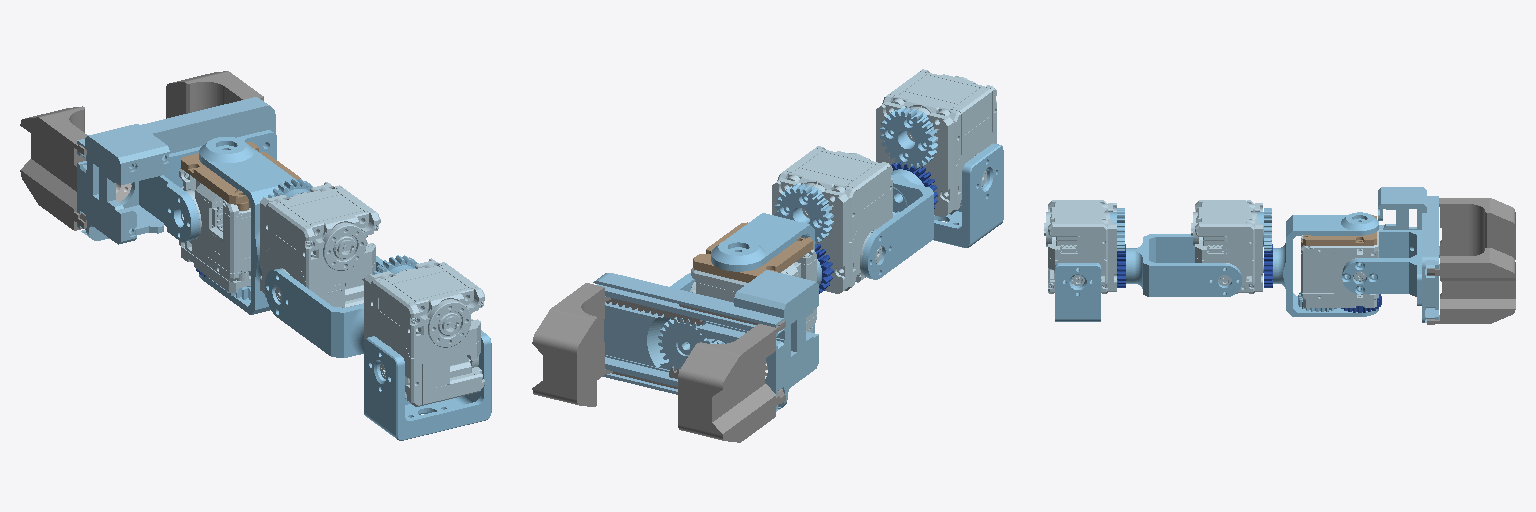
--- Render facts (derived) ---
Views: 3 orthographic renders of the robot side by side, from view 1: azimuth 30°, elevation 25°; view 2: azimuth 150°, elevation 25°; view 3: azimuth 270°, elevation 25°.
Robot: left_arm_gripper — 19 links, 18 joints (10 revolute, 2 prismatic, 6 fixed); root link sho_pitch_link; default pose: all joints at 0.
Visible links, largest first — view 1: 2xl430_gears, left_rail_guide, 2xl430_gears_2, sho_pitch_link, rail, 2xl430_gears_3, elb_yaw_link, sho_yaw_link, left_gripper_connector, rail_2, wrist_bearing_plate; view 2: left_rail_guide, rail, 2xl430_gears_2, 2xl430_gears, rail_2, sho_yaw_link, sho_pitch_link, elb_yaw_link, spur_1m_24t_drive, spur_1m_24t_drive_2, 2xl430_gears_3, wrist_bearing_plate; view 3: rail_2, sho_yaw_link, 2xl430_gears, 2xl430_gears_2, rail, left_gripper_connector, 2xl430_gears_3, left_rail_guide, elb_yaw_link, sho_pitch_link, wrist_bearing_plate.
Link boxes in pixels (x1,y1,x2,y2): 2xl430_gears: (364,258,484,406); left_rail_guide: (77,97,275,244); 2xl430_gears_2: (260,182,380,307); sho_pitch_link: (364,330,491,440); rail: (20,106,87,230); 2xl430_gears_3: (179,168,250,293); elb_yaw_link: (199,137,294,314); sho_yaw_link: (265,256,383,357); left_gripper_connector: (139,130,276,241); rail_2: (166,71,263,118); wrist_bearing_plate: (181,142,300,210); left_rail_guide: (593,270,818,411); rail: (669,304,785,442); 2xl430_gears_2: (772,146,892,293); 2xl430_gears: (876,69,996,217); rail_2: (532,283,704,406); sho_yaw_link: (862,169,933,279); sho_pitch_link: (933,143,1003,247); elb_yaw_link: (711,213,821,332); spur_1m_24t_drive: (880,107,937,168); spur_1m_24t_drive_2: (775,184,833,242); 2xl430_gears_3: (690,249,816,332); wrist_bearing_plate: (693,222,812,282); rail_2: (1427,248,1515,324); sho_yaw_link: (1126,234,1241,296); 2xl430_gears: (1044,200,1116,293); 2xl430_gears_2: (1191,200,1263,293); rail: (1439,198,1515,259); left_gripper_connector: (1342,230,1421,305); 2xl430_gears_3: (1301,230,1378,307); left_rail_guide: (1378,187,1438,322); elb_yaw_link: (1273,212,1378,316); sho_pitch_link: (1055,263,1100,321); wrist_bearing_plate: (1301,215,1376,246).
Size in the robot's own frame: 0.0917 by 0.2811 by 0.0652 metres.
18 mesh visuals loaded from 19 distinct referenced files (18 binary STL); not drawn: 1 (reference not matched to a file when rendering).

The robot description file, URDF, robot "left_arm_gripper":
<?xml version="1.0" ?><robot name="left_arm_gripper">  
  <link name="sho_pitch_link">    
    <visual>      
      <origin xyz="0 0 0" rpy="0 -0 0"/>      
      <geometry>        
        <mesh filename="package:///meshes/left_sho_pitch_link_visual.stl"/>        
      </geometry>      
      <material name="sho_pitch_link_material">        
        <color rgba="0.61568627450980395466 0.81176470588235294379 0.92941176470588227065 1.0"/>        
      </material>      
    </visual>    
    <collision>      
      <origin xyz="0 0 0" rpy="0 -0 0"/>      
      <geometry>        
        <mesh filename="package:///meshes/left_sho_pitch_link_collision.stl"/>        
      </geometry>      
    </collision>    
    <inertial>      
      <origin xyz="-1.0259034381598989264e-18 -2.1966078074444170109e-18 0.012913250798677557499" rpy="0 0 0"/>      
      <mass value="0.0085999999999999982708"/>      
      <inertia ixx="1.8365636406635683089e-06" ixy="1.0387514045979628457e-20" ixz="-1.6193093852519860617e-61" iyy="4.0110869076838864174e-06" iyz="-1.0800914119377960692e-46" izz="3.516051645049224817e-06"/>      
    </inertial>    
  </link>  

  <link name="2xl430_gears">    
    <visual>      
      <origin xyz="0 0 0" rpy="0 -0 0"/>      
      <geometry>        
        <mesh filename="package:///meshes/left_2xl430_gears_visual.stl"/>        
      </geometry>      
      <material name="2xl430_gears_material">        
        <color rgba="0.75914767920569214965 0.85560384745670925444 0.90519468321360607721 1.0"/>        
      </material>      
    </visual>    
    <collision>      
      <origin xyz="0 0 0" rpy="0 -0 0"/>      
      <geometry>        
        <mesh filename="package:///meshes/left_2xl430_gears_collision.stl"/>        
      </geometry>      
    </collision>    
    <inertial>      
      <origin xyz="-0.011592905737984531694 -0.0024238553642513625125 -0.018551095523807990123" rpy="0 0 0"/>      
      <mass value="0.11800003674524911501"/>      
      <inertia ixx="2.751102105042718034e-05" ixy="9.0043904315212092764e-07" ixz="-2.3349710123078761822e-08" iyy="3.2796197843348192627e-05" iyz="-6.57151196549046044e-07" izz="3.5775739835743546827e-05"/>      
    </inertial>    
  </link>  

  <link name="spur_1m_24t_drive">    
    <visual>      
      <origin xyz="0 0 0" rpy="0 -0 0"/>      
      <geometry>        
        <mesh filename="package:///meshes/left_spur_1m_24t_drive_visual.stl"/>        
      </geometry>      
      <material name="spur_1m_24t_drive_material">        
        <color rgba="0.61568627450980395466 0.81176470588235294379 0.92941176470588238168 1.0"/>        
      </material>      
    </visual>    
    <collision>      
      <origin xyz="0 0 0" rpy="0 -0 0"/>      
      <geometry>        
        <mesh filename="package:///meshes/left_spur_1m_24t_drive_collision.stl"/>        
      </geometry>      
    </collision>    
    <inertial>      
      <origin xyz="3.0326032612408354263e-15 -3.3912620816558811906e-16 0.0048096451474093065287" rpy="0 0 0"/>      
      <mass value="0.0031999999999999997197"/>      
      <inertia ixx="1.4097598887016958673e-07" ixy="1.556282310200251252e-15" ixz="-1.9054826560744749536e-36" iyy="1.4097598803635998845e-07" iyz="-1.0410230873183347628e-35" izz="2.4107776386988835496e-07"/>      
    </inertial>    
  </link>  

  <joint name="left_sho_yaw_drive" type="revolute">    
    <origin xyz="-0.024000000716142999568 -0.019000000152452855423 -0.019000000152454149527" rpy="1.5707963267951641217 1.7852935519577563101e-13 1.662194559181264057e-13"/>    
    <parent link="2xl430_gears"/>    
    <child link="spur_1m_24t_drive"/>    
    <axis xyz="0 0 1"/>    
    <limit effort="1" velocity="20" lower="-2.6179938779914944114" upper="2.6179938779914944114"/>    
    <joint_properties friction="0.0"/>    
  </joint>  

  <link name="spur_1m_24t_driven">    
    <visual>      
      <origin xyz="0 0 0" rpy="0 -0 0"/>      
      <geometry>        
        <mesh filename="package:///meshes/left_spur_1m_24t_driven_visual.stl"/>        
      </geometry>      
      <material name="spur_1m_24t_driven_material">        
        <color rgba="0.23137254901960788156 0.38039215686274502337 0.7058823529411765163 1.0"/>        
      </material>      
    </visual>    
    <collision>      
      <origin xyz="0 0 0" rpy="0 -0 0"/>      
      <geometry>        
        <mesh filename="package:///meshes/left_spur_1m_24t_driven_collision.stl"/>        
      </geometry>      
    </collision>    
    <inertial>      
      <origin xyz="-2.690304390834019776e-18 -1.6883842059581390828e-15 -0.00097237500038395777158" rpy="0 0 0"/>      
      <mass value="0.0026999999999999997093"/>      
      <inertia ixx="1.2202334915684080498e-07" ixy="0" ixz="0" iyy="1.2202334915684064616e-07" iyz="9.0098026086481821834e-37" izz="2.3180293204341252239e-07"/>      
    </inertial>    
  </link>  

  <link name="sho_yaw_link">    
    <visual>      
      <origin xyz="0 0 0" rpy="0 -0 0"/>      
      <geometry>        
        <mesh filename="package:///meshes/left_sho_yaw_link_visual.stl"/>        
      </geometry>      
      <material name="sho_yaw_link_material">        
        <color rgba="0.61568627450980395466 0.81176470588235294379 0.92941176470588238168 1.0"/>        
      </material>      
    </visual>    
    <collision>      
      <origin xyz="0 0 0" rpy="0 -0 0"/>      
      <geometry>        
        <mesh filename="package:///meshes/left_sho_yaw_link_collision.stl"/>        
      </geometry>      
    </collision>    
    <inertial>      
      <origin xyz="-4.7730210054626242047e-18 2.6069328434151166727e-18 -0.024649285094360075254" rpy="0 0 0"/>      
      <mass value="0.014500000000000007674"/>      
      <inertia ixx="9.2365904614004439553e-06" ixy="3.5862833440690451918e-13" ixz="1.4405210395321376036e-34" iyy="5.8163826335078791714e-06" iyz="7.6091566349163998504e-35" izz="4.5074356741562122031e-06"/>      
    </inertial>    
  </link>  

  <link name="2xl430_gears_2">    
    <visual>      
      <origin xyz="0 0 0" rpy="0 -0 0"/>      
      <geometry>        
        <mesh filename="package:///meshes/left_2xl430_gears_2_visual.stl"/>        
      </geometry>      
      <material name="2xl430_gears_2_material">        
        <color rgba="0.75914767920569214965 0.85560384745670925444 0.90519468321360607721 1.0"/>        
      </material>      
    </visual>    
    <collision>      
      <origin xyz="0 0 0" rpy="0 -0 0"/>      
      <geometry>        
        <mesh filename="package:///meshes/left_2xl430_gears_2_collision.stl"/>        
      </geometry>      
    </collision>    
    <inertial>      
      <origin xyz="-0.01159290573798443455 -0.0024238553642578907106 -0.018551095523808416865" rpy="0 0 0"/>      
      <mass value="0.11800003674524911501"/>      
      <inertia ixx="2.7511021050432377734e-05" ixy="9.0043904315196200308e-07" ixz="-2.3349710123606006745e-08" iyy="3.2796197843347941905e-05" iyz="-6.5715119654818365858e-07" izz="3.5775739835749293099e-05"/>      
    </inertial>    
  </link>  

  <link name="spur_1m_24t_drive_2">    
    <visual>      
      <origin xyz="0 0 0" rpy="0 -0 0"/>      
      <geometry>        
        <mesh filename="package:///meshes/left_spur_1m_24t_drive_2_visual.stl"/>        
      </geometry>      
      <material name="spur_1m_24t_drive_2_material">        
        <color rgba="0.61568627450980395466 0.81176470588235294379 0.92941176470588238168 1.0"/>        
      </material>      
    </visual>    
    <collision>      
      <origin xyz="0 0 0" rpy="0 -0 0"/>      
      <geometry>        
        <mesh filename="package:///meshes/left_spur_1m_24t_drive_2_collision.stl"/>        
      </geometry>      
    </collision>    
    <inertial>      
      <origin xyz="3.0326032612408362152e-15 -3.3912620813973872492e-16 0.0048096451474092995898" rpy="0 0 0"/>      
      <mass value="0.0031999999999999997197"/>      
      <inertia ixx="1.409759888701696132e-07" ixy="1.5562823122431795239e-15" ixz="1.716313347270729479e-36" iyy="1.4097598803636004139e-07" iyz="4.0918007442501279481e-37" izz="2.4107776386988835496e-07"/>      
    </inertial>    
  </link>  

  <joint name="left_elbow_yaw_drive" type="revolute">    
    <origin xyz="-0.024000000716145834107 -0.019000000152458659808 -0.01900000015244798085" rpy="1.5707963267947213648 5.6483017330373295891e-14 4.6978620126247880643e-14"/>    
    <parent link="2xl430_gears_2"/>    
    <child link="spur_1m_24t_drive_2"/>    
    <axis xyz="0 0 1"/>    
    <limit effort="1" velocity="20" lower="-2.6179938779914944114" upper="2.6179938779914944114"/>    
    <joint_properties friction="0.0"/>    
  </joint>  

  <link name="spur_1m_24t_driven_2">    
    <visual>      
      <origin xyz="0 0 0" rpy="0 -0 0"/>      
      <geometry>        
        <mesh filename="package:///meshes/left_spur_1m_24t_driven_2_visual.stl"/>        
      </geometry>      
      <material name="spur_1m_24t_driven_2_material">        
        <color rgba="0.23137254901960788156 0.38039215686274502337 0.7058823529411765163 1.0"/>        
      </material>      
    </visual>    
    <collision>      
      <origin xyz="0 0 0" rpy="0 -0 0"/>      
      <geometry>        
        <mesh filename="package:///meshes/left_spur_1m_24t_driven_2_collision.stl"/>        
      </geometry>      
    </collision>    
    <inertial>      
      <origin xyz="-6.1597513427876451353e-18 -1.6883842059581483519e-15 -0.00097237500038396124102" rpy="0 0 0"/>      
      <mass value="0.0026999999999999997093"/>      
      <inertia ixx="1.2202334915684080498e-07" ixy="-5.001952331184614871e-40" ixz="-5.4479807872574103124e-38" iyy="1.2202334915684064616e-07" iyz="-1.9538097176800387152e-36" izz="2.3180293204341262827e-07"/>      
    </inertial>    
  </link>  

  <link name="elb_yaw_link">    
    <visual>      
      <origin xyz="0 0 0" rpy="0 -0 0"/>      
      <geometry>        
        <mesh filename="package:///meshes/left_elb_yaw_link_visual.stl"/>        
      </geometry>      
      <material name="elb_yaw_link_material">        
        <color rgba="0.61568627450980395466 0.81176470588235294379 0.92941176470588227065 1.0"/>        
      </material>      
    </visual>    
    <collision>      
      <origin xyz="0 0 0" rpy="0 -0 0"/>      
      <geometry>        
        <mesh filename="package:///meshes/left_elb_yaw_link_collision.stl"/>        
      </geometry>      
    </collision>    
    <inertial>      
      <origin xyz="5.3127688027774929136e-08 0.0019833638641961648559 -0.023416643551549924662" rpy="0 0 0"/>      
      <mass value="0.017500000000000005135"/>      
      <inertia ixx="1.4134344903109199776e-05" ixy="1.6945783922006116668e-12" ixz="-1.1286398721833140765e-11" iyy="6.6435900776211340404e-06" iyz="1.0545227077253051227e-06" izz="8.9925290757998993713e-06"/>      
    </inertial>    
  </link>  

  <link name="spur_1m_24t_driven_3">    
    <visual>      
      <origin xyz="0 0 0" rpy="0 -0 0"/>      
      <geometry>        
        <mesh filename="package:///meshes/left_spur_1m_24t_driven_3_visual.stl"/>        
      </geometry>      
      <material name="spur_1m_24t_driven_3_material">        
        <color rgba="0.23137254901960788156 0.38039215686274502337 0.7058823529411765163 1.0"/>        
      </material>      
    </visual>    
    <collision>      
      <origin xyz="0 0 0" rpy="0 -0 0"/>      
      <geometry>        
        <mesh filename="package:///meshes/left_spur_1m_24t_driven_3_collision.stl"/>        
      </geometry>      
    </collision>    
    <inertial>      
      <origin xyz="-2.690304390834019776e-18 -1.6883842059581294192e-15 -0.0025723750003839550293" rpy="0 0 0"/>      
      <mass value="0.0026999999999999997093"/>      
      <inertia ixx="1.2202334915684080498e-07" ixy="-2.0478496606109072234e-37" ixz="0" iyy="1.2202334915684064616e-07" iyz="0" izz="2.3180293204341252239e-07"/>      
    </inertial>    
  </link>  

  <link name="2xl430_gears_3">    
    <visual>      
      <origin xyz="0 0 0" rpy="0 -0 0"/>      
      <geometry>        
        <mesh filename="package:///meshes/left_2xl430_gears_3_visual.stl"/>        
      </geometry>      
      <material name="2xl430_gears_3_material">        
        <color rgba="0.75914767920569214965 0.85560384745670925444 0.90519468321360607721 1.0"/>        
      </material>      
    </visual>    
    <collision>      
      <origin xyz="0 0 0" rpy="0 -0 0"/>      
      <geometry>        
        <mesh filename="package:///meshes/left_2xl430_gears_3_collision.stl"/>        
      </geometry>      
    </collision>    
    <inertial>      
      <origin xyz="0.00044890447619466358623 0.011592905379906717767 -0.024576144788201054192" rpy="0 0 0"/>      
      <mass value="0.11800003674524911501"/>      
      <inertia ixx="3.5775739835742191575e-05" ixy="2.3349710124490282672e-08" ixz="6.5715119654859785769e-07" iyy="2.7511021050427132906e-05" iyz="9.0043904314985839676e-07" izz="3.2796197843347379476e-05"/>      
    </inertial>    
  </link>  

  <link name="spur_1m_24t_drive_3">    
    <visual>      
      <origin xyz="0 0 0" rpy="0 -0 0"/>      
      <geometry>        
        <mesh filename="package:///meshes/left_spur_1m_24t_drive_3_visual.stl"/>        
      </geometry>      
      <material name="spur_1m_24t_drive_3_material">        
        <color rgba="0.61568627450980395466 0.81176470588235294379 0.92941176470588238168 1.0"/>        
      </material>      
    </visual>    
    <collision>      
      <origin xyz="0 0 0" rpy="0 -0 0"/>      
      <geometry>        
        <mesh filename="package:///meshes/left_spur_1m_24t_drive_3_collision.stl"/>        
      </geometry>      
    </collision>    
    <inertial>      
      <origin xyz="3.0326032612408354263e-15 -3.3912620813973867561e-16 0.0048096451474093065287" rpy="0 0 0"/>      
      <mass value="0.0031999999999999997197"/>      
      <inertia ixx="1.4097598887016958673e-07" ixy="1.5562823102285579479e-15" ixz="1.2360023079066387479e-35" iyy="1.4097598803635998845e-07" iyz="1.4333673239442395638e-36" izz="2.4107776386988835496e-07"/>      
    </inertial>    
  </link>  

  <joint name="left_wrist_pitch_drive" type="revolute">    
    <origin xyz="-1.524451905139367785e-10 0.024000000358071232887 -0.0080000000000054836274" rpy="4.16271708357995742e-14 -1.9270925058949600393e-13 -1.5707963267948177322"/>    
    <parent link="2xl430_gears_3"/>    
    <child link="spur_1m_24t_drive_3"/>    
    <axis xyz="0 0 1"/>    
    <limit effort="1" velocity="20" lower="-1.9198621771937625091" upper="1.3962634015954635824"/>    
    <joint_properties friction="0.0"/>    
  </joint>  

  <link name="left_gripper_connector">    
    <visual>      
      <origin xyz="0 0 0" rpy="0 -0 0"/>      
      <geometry>        
        <mesh filename="package:///meshes/left_gripper_connector_visual.stl"/>        
      </geometry>      
      <material name="left_gripper_connector_material">        
        <color rgba="0.61568627450980395466 0.81176470588235294379 0.92941176470588238168 1.0"/>        
      </material>      
    </visual>    
    <collision>      
      <origin xyz="0 0 0" rpy="0 -0 0"/>      
      <geometry>        
        <mesh filename="package:///meshes/left_gripper_connector_collision.stl"/>        
      </geometry>      
    </collision>    
    <inertial>      
      <origin xyz="-0.00018842170188954616267 -0.022508162473387265112 -0.010896047477464285841" rpy="0 0 0"/>      
      <mass value="0.0099999999999999984734"/>      
      <inertia ixx="5.9456375734536684232e-06" ixy="-2.447905549188665837e-08" ixz="-4.0329437936864239347e-08" iyy="4.2603724874314037743e-06" iyz="4.5852612749762338286e-07" izz="2.466963252804713858e-06"/>      
    </inertial>    
  </link>  

  <link name="left_rail_guide">    
    <visual>      
      <origin xyz="0 0 0" rpy="0 -0 0"/>      
      <geometry>        
        <mesh filename="package:///meshes/left_rail_guide_visual.stl"/>        
      </geometry>      
      <material name="left_rail_guide_material">        
        <color rgba="0.63181718041513323936 0.80465605329635414567 0.89972875975946797755 1.0"/>        
      </material>      
    </visual>    
    <collision>      
      <origin xyz="0 0 0" rpy="0 -0 0"/>      
      <geometry>        
        <mesh filename="package:///meshes/left_rail_guide_collision.stl"/>        
      </geometry>      
    </collision>    
    <inertial>      
      <origin xyz="0.010819518839780871769 0.0021116106205359614668 -7.687170986491803019e-05" rpy="0 0 0"/>      
      <mass value="0.031121017612416666809"/>      
      <inertia ixx="7.8532725551086577254e-06" ixy="2.0671876731375220984e-06" ixz="4.0098876287871823871e-06" iyy="2.7330594711584456634e-05" iyz="-8.9062740055665011471e-07" izz="3.0532648647413090004e-05"/>      
    </inertial>    
  </link>  

  <link name="rail">    
    <visual>      
      <origin xyz="0 0 0" rpy="0 -0 0"/>      
      <geometry>        
        <mesh filename="package:///meshes/left_rail_visual.stl"/>        
      </geometry>      
      <material name="rail_material">        
        <color rgba="0.64705882352941179736 0.64705882352941179736 0.64705882352941179736 1.0"/>        
      </material>      
    </visual>    
    <collision>      
      <origin xyz="0 0 0" rpy="0 -0 0"/>      
      <geometry>        
        <mesh filename="package:///meshes/left_rail_collision.stl"/>        
      </geometry>      
    </collision>    
    <inertial>      
      <origin xyz="0.029506549511750319176 -0.015932823905721996138 -0.010527873318605746045" rpy="0 0 0"/>      
      <mass value="0.017100000000000007555"/>      
      <inertia ixx="3.6539450928192396354e-06" ixy="2.1092288739438398891e-08" ixz="-1.1722367407071777491e-07" iyy="4.7510522653474580835e-06" iyz="3.1475054982591100515e-08" izz="6.1158569967957946884e-06"/>      
    </inertial>    
  </link>  

  <joint name="left_gripper_pinion" type="prismatic">    
    <origin xyz="-0.028872600000000029491 -0.015974999999999992678 -0.0053500000000000491607" rpy="3.1415926535897926719 1.5707963267948954478 0"/>    
    <parent link="left_rail_guide"/>    
    <child link="rail"/>    
    <axis xyz="0 0 1"/>    
    <limit effort="1" velocity="20" lower="-0.025000000000000001388" upper="0"/>    
    <joint_properties friction="0.0"/>    
  </joint>  

  <link name="rail_2">    
    <visual>      
      <origin xyz="0 0 0" rpy="0 -0 0"/>      
      <geometry>        
        <mesh filename="package:///meshes/left_rail_2_visual.stl"/>        
      </geometry>      
      <material name="rail_2_material">        
        <color rgba="0.64705882352941179736 0.64705882352941179736 0.64705882352941179736 1.0"/>        
      </material>      
    </visual>    
    <collision>      
      <origin xyz="0 0 0" rpy="0 -0 0"/>      
      <geometry>        
        <mesh filename="package:///meshes/left_rail_2_collision.stl"/>        
      </geometry>      
    </collision>    
    <inertial>      
      <origin xyz="0.029506549511750343462 -0.015932823905721999608 -0.010527873318605732167" rpy="0 0 0"/>      
      <mass value="0.017100000000000007555"/>      
      <inertia ixx="3.6539450928192396354e-06" ixy="2.1092288739438398891e-08" ixz="-1.1722367407071777491e-07" iyy="4.7510522653474580835e-06" iyz="3.1475054982591100515e-08" izz="6.1158569967957946884e-06"/>      
    </inertial>    
  </link>  

  <joint name="left_gripper_pinion_mirror" type="prismatic">    
    <origin xyz="0.062872600000000042342 0.015974999999999996148 -0.0053500000000000214051" rpy="-3.4217842105774686555e-16 1.5707963267948954478 0"/>    
    <parent link="left_rail_guide"/>    
    <child link="rail_2"/>    
    <axis xyz="0 0 1"/>    
    <limit effort="1" velocity="20" lower="-0.025000000000000001388" upper="0"/>    
    <joint_properties friction="0.0"/>    
  </joint>  

  <link name="xc330">    
    <visual>      
      <origin xyz="0 0 0" rpy="0 -0 0"/>      
      <geometry>        
        <mesh filename="package:///meshes/left_xc330_visual.stl"/>        
      </geometry>      
      <material name="xc330_material">        
        <color rgba="0.66932535752643762539 0.72911795671409951325 0.67547870389434383487 1.0"/>        
      </material>      
    </visual>    
    <collision>      
      <origin xyz="0 0 0" rpy="0 -0 0"/>      
      <geometry>        
        <mesh filename="package:///meshes/left_xc330_collision.stl"/>        
      </geometry>      
    </collision>    
    <inertial>      
      <origin xyz="0.0080045171539642415853 -0.015558009851635253018 -0.011717805512818375846" rpy="0 0 0"/>      
      <mass value="0.026599999993091760775"/>      
      <inertia ixx="3.8683410666514144775e-06" ixy="-7.7688424002195035071e-10" ixz="5.7969695836943880499e-10" iyy="2.1626767907494822169e-06" iyz="8.3590274790330918056e-09" izz="3.3158761130055984099e-06"/>      
    </inertial>    
  </link>  

  <link name="spur_gear_(18_teeth)">    
    <visual>      
      <origin xyz="0 0 0" rpy="0 -0 0"/>      
      <geometry>        
        <mesh filename="package:///meshes/left_spur_gear_(18_teeth)_visual.stl"/>        
      </geometry>      
      <material name="spur_gear_(18_teeth)_material">        
        <color rgba="0.9176470588235294823 0.9176470588235294823 0.9176470588235294823 1.0"/>        
      </material>      
    </visual>    
    <collision>      
      <origin xyz="0 0 0" rpy="0 -0 0"/>      
      <geometry>        
        <mesh filename="package:///meshes/left_spur_gear_(18_teeth)_collision.stl"/>        
      </geometry>      
    </collision>    
    <inertial>      
      <origin xyz="5.7245874707234634116e-17 -3.8163916471489756077e-17 -0.0025000000000000078583" rpy="0 0 0"/>      
      <mass value="0.0012999999999999997235"/>      
      <inertia ixx="3.3282842836137718203e-08" ixy="-1.6173796229465777701e-22" ixz="2.3031319583818275503e-37" iyy="3.3282842836137460123e-08" iyz="-1.5027956260699347386e-36" izz="6.1149428795799502273e-08"/>      
    </inertial>    
  </link>  

  <joint name="left_gripper_rack" type="revolute">    
    <origin xyz="0.008000000000000003636 -0.022500000000000002637 -0.026000000000000023093" rpy="8.0274485715290161319e-27 -6.1232339957378667434e-17 -3.141592653589793116"/>    
    <parent link="xc330"/>    
    <child link="spur_gear_(18_teeth)"/>    
    <axis xyz="0 0 1"/>    
    <limit effort="1" velocity="20" lower="0" upper="2.7052603405912107881"/>    
    <joint_properties friction="0.0"/>    
  </joint>  

  <joint name="left_gripper_motor" type="fixed">    
    <origin xyz="-0.021950000000000014638 0.022600000000000036726 0.023300000000000042899" rpy="-1.3739009929259842173e-15 2.7559334175823541618e-31 6.8285689592397465021e-30"/>    
    <parent link="left_rail_guide"/>    
    <child link="xc330"/>    
    <axis xyz="0 0 1"/>    
    <limit effort="1" velocity="20"/>    
    <joint_properties friction="0.0"/>    
  </joint>  

  <joint name="left_gripper_fixed" type="fixed">    
    <origin xyz="0 -0.037000000000000005107 -0.036000000000000004219" rpy="-1.5707963267948958919 -1.5707963267948961139 0"/>    
    <parent link="left_gripper_connector"/>    
    <child link="left_rail_guide"/>    
    <axis xyz="0 0 1"/>    
    <limit effort="1" velocity="20"/>    
    <joint_properties friction="0.0"/>    
  </joint>  

  <joint name="left_wrist_roll" type="revolute">    
    <origin xyz="0.019000000000005661666 -3.5807856679781480125e-10 -0.027000000152451263113" rpy="-2.8064031127489633951e-14 1.5707963267947580022 0"/>    
    <parent link="2xl430_gears_3"/>    
    <child link="left_gripper_connector"/>    
    <axis xyz="0 0 1"/>    
    <limit effort="1" velocity="20" lower="-1.9198621771937625091" upper="1.3962634015954635824"/>    
    <joint_properties friction="0.0"/>    
  </joint>  

  <link name="wrist_bearing_plate">    
    <visual>      
      <origin xyz="0 0 0" rpy="0 -0 0"/>      
      <geometry>        
        <mesh filename="package:///meshes/left_wrist_bearing_plate_visual.stl"/>        
      </geometry>      
      <material name="wrist_bearing_plate_material">        
        <color rgba="0.71932243125689054875 0.63128434304969727187 0.52422389360984933404 1.0"/>        
      </material>      
    </visual>    
    <collision>      
      <origin xyz="0 0 0" rpy="0 -0 0"/>      
      <geometry>        
        <mesh filename="package:///meshes/left_wrist_bearing_plate_collision.stl"/>        
      </geometry>      
    </collision>    
    <inertial>      
      <origin xyz="-0.0075835583121500130949 -0.015499999999999980807 -0.0018386323705903353121" rpy="0 0 0"/>      
      <mass value="0.0049000367468305557062"/>      
      <inertia ixx="4.9707430109150118544e-07" ixy="1.1840168245471985606e-22" ixz="1.8100904820814018704e-08" iyy="7.1268523603538542471e-07" iyz="1.9408397704641965019e-23" izz="1.1919657811600104999e-06"/>      
    </inertial>    
  </link>  

  <joint name="left_wrist_pitch_fixed" type="fixed">    
    <origin xyz="0.015500000000000927966 -5.3013149425851224805e-15 -0.045000000000004647394" rpy="-1.3423748839779928189e-14 -1.2850831510036285405e-13 -1.5707963267947808728"/>    
    <parent link="2xl430_gears_3"/>    
    <child link="wrist_bearing_plate"/>    
    <axis xyz="0 0 1"/>    
    <limit effort="1" velocity="20"/>    
    <joint_properties friction="0.0"/>    
  </joint>  

  <joint name="left_wrist_pitch_driven" type="revolute">    
    <origin xyz="2.7755575615628913511e-17 -2.7218856673745791334e-26 -0.0015999999999999970409" rpy="1.4482204529901611002e-15 -3.5076854490550032472e-16 -1.570796326794896558"/>    
    <parent link="spur_1m_24t_driven_3"/>    
    <child link="2xl430_gears_3"/>    
    <axis xyz="0 0 1"/>    
    <limit effort="1" velocity="20" lower="-1.3962634015954635824" upper="1.9198621771937625091"/>    
    <joint_properties friction="0.0"/>    
  </joint>  

  <joint name="left_wrist_roll_fixed" type="fixed">    
    <origin xyz="-3.1491327336422791272e-27 -0.025299999999999996103 -0.052000000000000004552" rpy="1.570796326794896558 -1.570796326794896558 0"/>    
    <parent link="elb_yaw_link"/>    
    <child link="spur_1m_24t_driven_3"/>    
    <axis xyz="0 0 1"/>    
    <limit effort="1" velocity="20"/>    
    <joint_properties friction="0.0"/>    
  </joint>  

  <joint name="left_elbow_yaw_fixed" type="fixed">    
    <origin xyz="3.4694469519536141888e-18 -2.5312968726731826812e-26 0.0016000000000000041966" rpy="3.141592653589793116 9.0036945470132253747e-18 -1.570796326794896558"/>    
    <parent link="spur_1m_24t_driven_2"/>    
    <child link="elb_yaw_link"/>    
    <axis xyz="0 0 1"/>    
    <limit effort="1" velocity="20"/>    
    <joint_properties friction="0.0"/>    
  </joint>  

  <joint name="left_elbow_yaw_driven" type="revolute">    
    <origin xyz="-3.5806529269377662672e-10 -0.027000000152462802494 -0.019000000000002664063" rpy="1.5707963267946982722 1.4238795043810668594e-14 -3.1956956748115225826e-14"/>    
    <parent link="2xl430_gears_2"/>    
    <child link="spur_1m_24t_driven_2"/>    
    <axis xyz="0 0 1"/>    
    <limit effort="1" velocity="20" lower="-2.6179938779914944114" upper="2.6179938779914944114"/>    
    <joint_properties friction="0.0"/>    
  </joint>  

  <joint name="left_elbow_roll" type="revolute">    
    <origin xyz="0 -0.018999999999999999528 -0.058999999999999996891" rpy="1.570796326794896558 -1.5263566955096096865e-15 2.4483102557774331631e-15"/>    
    <parent link="sho_yaw_link"/>    
    <child link="2xl430_gears_2"/>    
    <axis xyz="0 0 1"/>    
    <limit effort="1" velocity="20" lower="-1.9198621771937625091" upper="2.4434609527920612138"/>    
    <joint_properties friction="0.0"/>    
  </joint>  

  <joint name="left_sho_yaw_fixed" type="fixed">    
    <origin xyz="0 2.4517796934269046912e-27 0.0015999999999999937883" rpy="-3.1415926535897908956 7.315399160866554694e-16 8.930518398153610412e-16"/>    
    <parent link="spur_1m_24t_driven"/>    
    <child link="sho_yaw_link"/>    
    <axis xyz="0 0 1"/>    
    <limit effort="1" velocity="20"/>    
    <joint_properties friction="0.0"/>    
  </joint>  

  <joint name="left_sho_yaw_driven" type="revolute">    
    <origin xyz="-3.5806378001490557494e-10 -0.027000000152455592983 -0.019000000000011431356" rpy="1.5707963267950484365 6.5054138685605535834e-14 8.4771249118856306737e-14"/>    
    <parent link="2xl430_gears"/>    
    <child link="spur_1m_24t_driven"/>    
    <axis xyz="0 0 1"/>    
    <limit effort="1" velocity="20" lower="-2.6179938779914944114" upper="2.6179938779914944114"/>    
    <joint_properties friction="0.0"/>    
  </joint>  

  <joint name="left_sho_roll" type="revolute">    
    <origin xyz="-0.018999999999999940548 -2.447003827555054701e-17 0.02699999999999990602" rpy="3.1415926535897913396 1.5707963267948359398 0"/>    
    <parent link="sho_pitch_link"/>    
    <child link="2xl430_gears"/>    
    <axis xyz="0 0 1"/>    
    <limit effort="1" velocity="20" lower="-1.570796326794896558" upper="0.34906585039886589561"/>    
    <joint_properties friction="0.0"/>    
  </joint>  


</robot>
